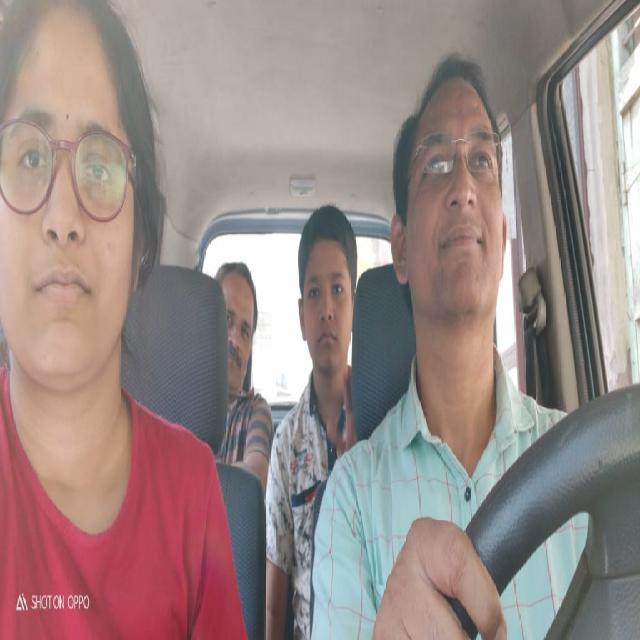person: (0, 0, 159, 403), (388, 48, 518, 370), (295, 191, 357, 385), (216, 254, 262, 406)
